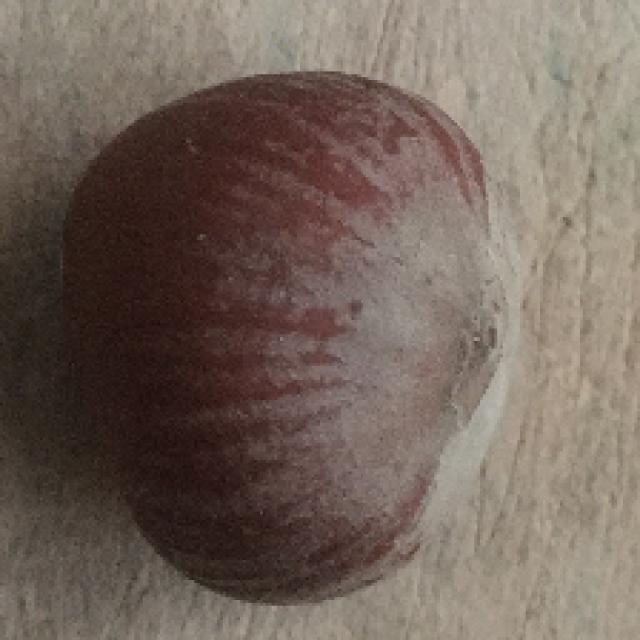QualityHazelnut: (59, 65, 530, 609)
